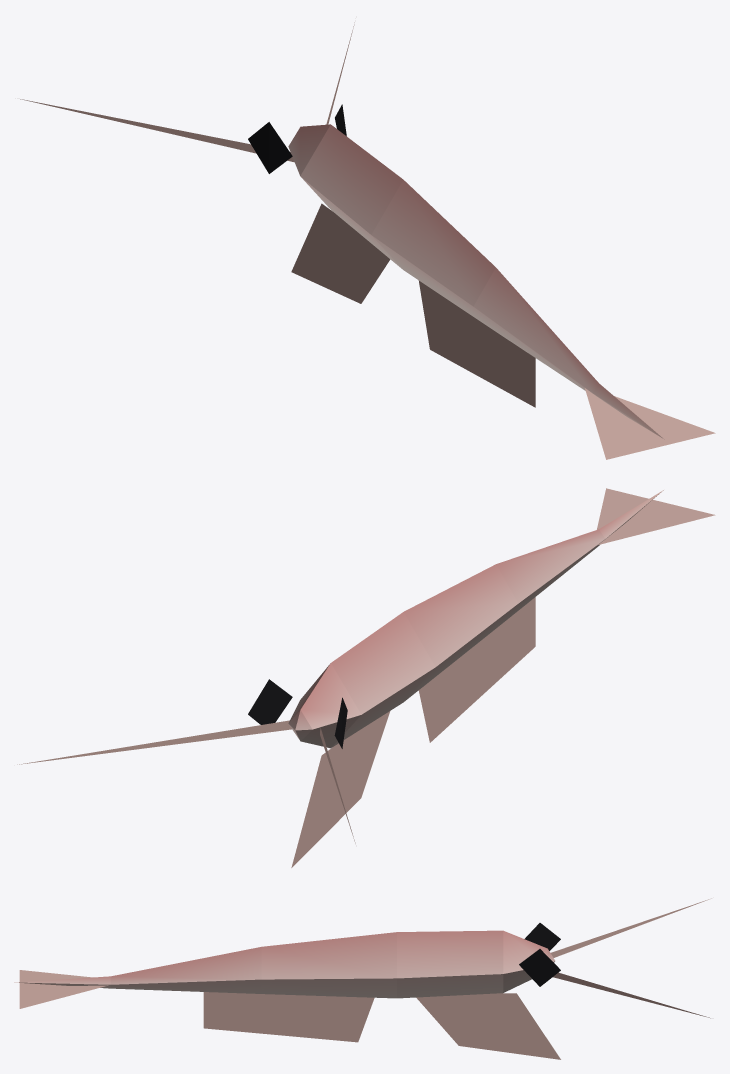
The model's file is krill_school.glb.
The picture shows the model from 3 angles, top to bottom: view 1: azimuth 30°, elevation 25°; view 2: azimuth 150°, elevation 25°; view 3: azimuth 270°, elevation 25°; orthographic projection. The views are drawn at different scales.
Visible parts, largest first — view 1: krill_school; view 2: krill_school; view 3: krill_school.
Part boxes in pixels (<box>): krill_school: <box>20,22,715,459</box>; krill_school: <box>17,488,715,867</box>; krill_school: <box>14,898,711,1059</box>.
Bounding box in the file's own units: 0.015 × 0.00738 × 0.0363.
